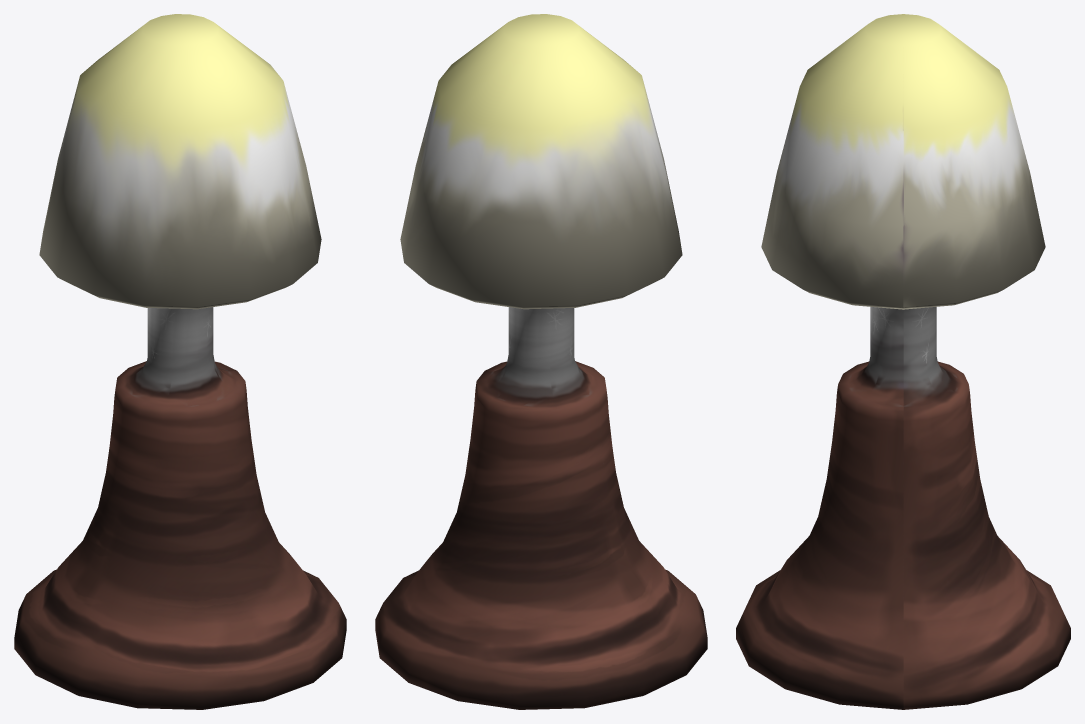
The model's file is lamb.fbx.
3 views of the same model, side by side, from view 1: azimuth 30°, elevation 25°; view 2: azimuth 150°, elevation 25°; view 3: azimuth 270°, elevation 25° (orthographic).
Parts seen in each view (by area): view 1: Lamp; view 2: Lamp; view 3: Lamp.
Part boxes in pixels (bbox=[...]): Lamp: bbox=[14, 14, 346, 709]; Lamp: bbox=[375, 14, 707, 709]; Lamp: bbox=[736, 14, 1070, 709].
Size of the model in its own units: 2 by 4.02 by 2.
